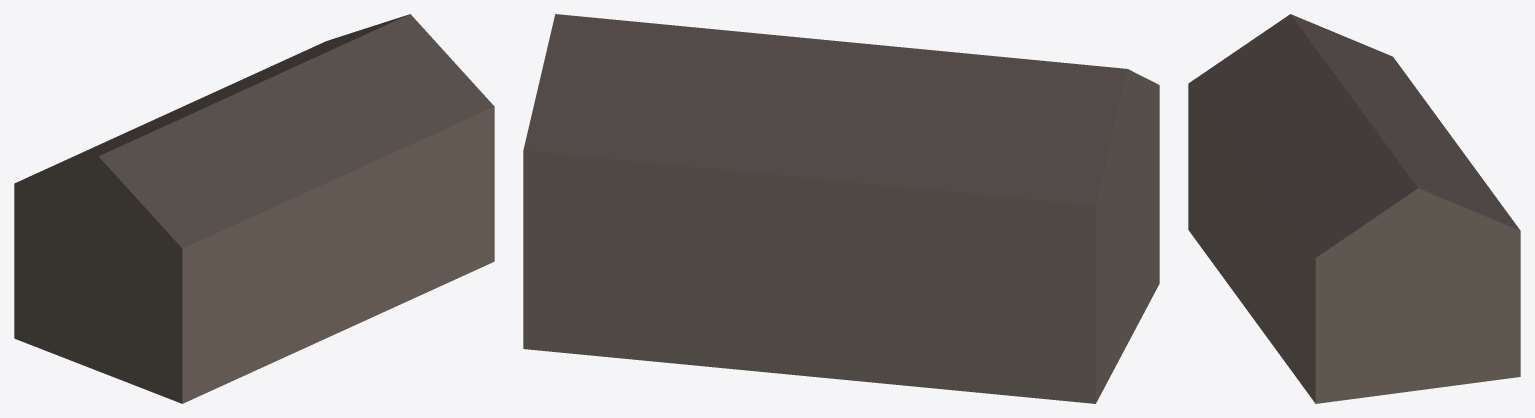
3 views of the same model, side by side, from view 1: azimuth 30°, elevation 25°; view 2: azimuth 150°, elevation 25°; view 3: azimuth 270°, elevation 25° (orthographic). The views are drawn at different scales.
Parts seen in each view (by area): view 1: HP-w859078883; view 2: HP-w859078883; view 3: HP-w859078883.
Boxes of the visible parts, left/top/right/bottom form: HP-w859078883: left=14, top=14, right=494, bottom=403; HP-w859078883: left=523, top=14, right=1159, bottom=403; HP-w859078883: left=1188, top=14, right=1520, bottom=403.
Bounding box in the file's own units: 26.64 × 12.47 × 18.59.
